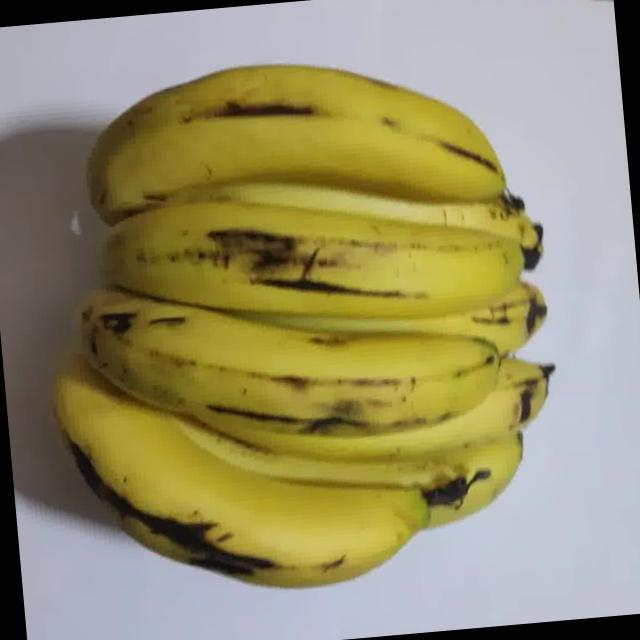banana_pacche: (0, 11, 635, 640)
